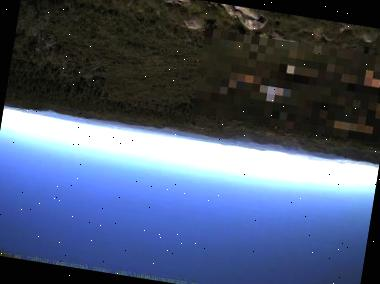smoke: (103, 121, 118, 136)
